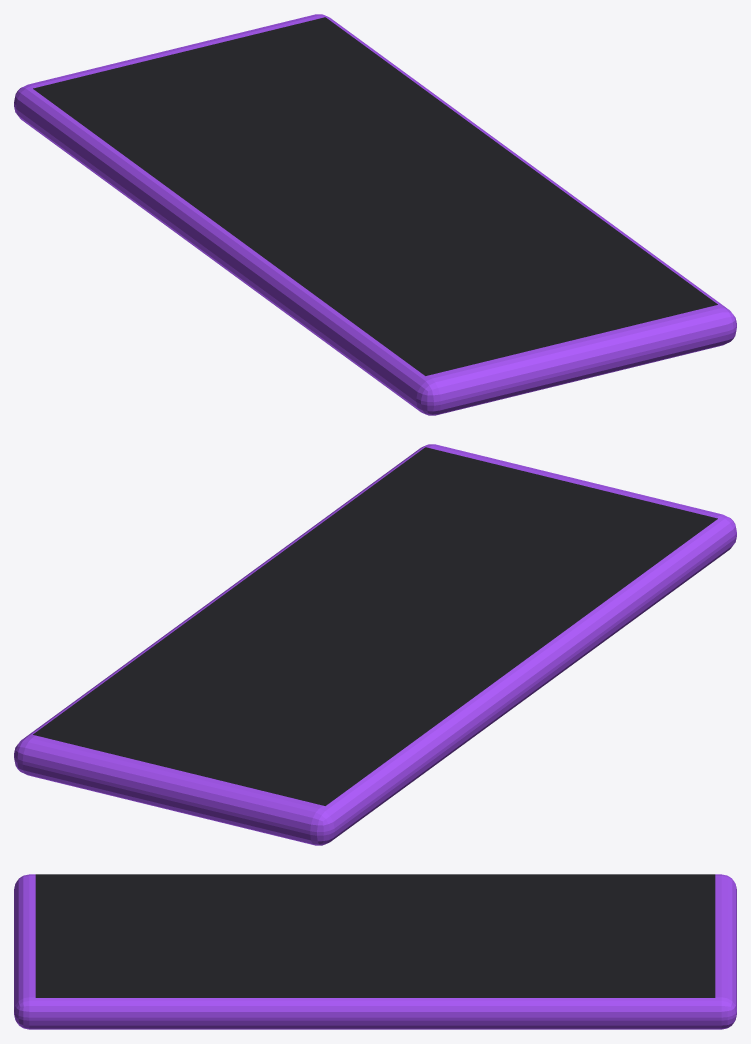
Rendered from Phone_607.glb.
3 views of the same model, one above another, from view 1: azimuth 30°, elevation 25°; view 2: azimuth 150°, elevation 25°; view 3: azimuth 270°, elevation 25° (orthographic). The views are drawn at different scales.
Parts seen in each view (by area): view 1: Phone_Screen, Phone_Body; view 2: Phone_Screen, Phone_Body; view 3: Phone_Screen, Phone_Body.
Boxes of the visible parts, bbox=[...] form: Phone_Screen: bbox=[33, 17, 717, 375]; Phone_Body: bbox=[14, 14, 736, 415]; Phone_Screen: bbox=[33, 447, 717, 805]; Phone_Body: bbox=[14, 444, 736, 845]; Phone_Screen: bbox=[35, 874, 715, 997]; Phone_Body: bbox=[14, 874, 736, 1029].
Size of the model in its own units: 0.0737 by 0.008 by 0.1676.
